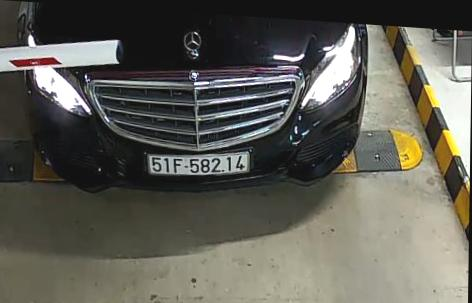License_Plate: (145, 145, 252, 178)
